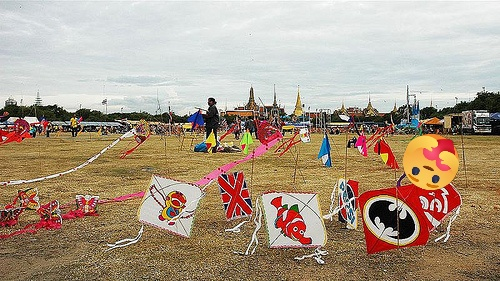care: (403, 134, 459, 190)
